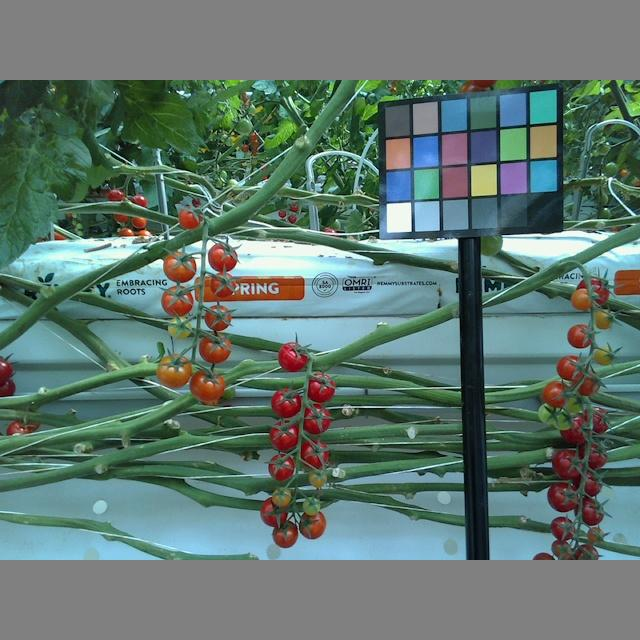green: (166, 315, 194, 340), (535, 401, 560, 424), (590, 308, 615, 330), (591, 342, 614, 364), (301, 495, 321, 517)
pink: (156, 354, 192, 388), (568, 287, 594, 311), (305, 468, 328, 489), (271, 485, 292, 508)
red: (188, 368, 226, 402), (163, 250, 198, 284), (270, 387, 304, 421), (296, 437, 330, 471), (206, 238, 239, 273), (549, 449, 585, 481), (198, 331, 232, 364), (266, 420, 301, 452), (299, 405, 332, 437), (545, 483, 580, 512), (277, 341, 309, 372), (161, 284, 194, 314), (304, 373, 337, 403), (296, 510, 327, 541), (541, 381, 574, 409), (204, 304, 235, 333), (268, 452, 297, 483), (259, 497, 288, 528), (571, 471, 604, 498), (576, 499, 607, 527), (558, 416, 590, 443), (580, 406, 609, 434), (577, 444, 608, 470), (271, 519, 299, 547), (564, 322, 594, 348), (556, 354, 585, 380), (549, 516, 577, 542), (210, 271, 235, 299), (178, 208, 204, 231)
